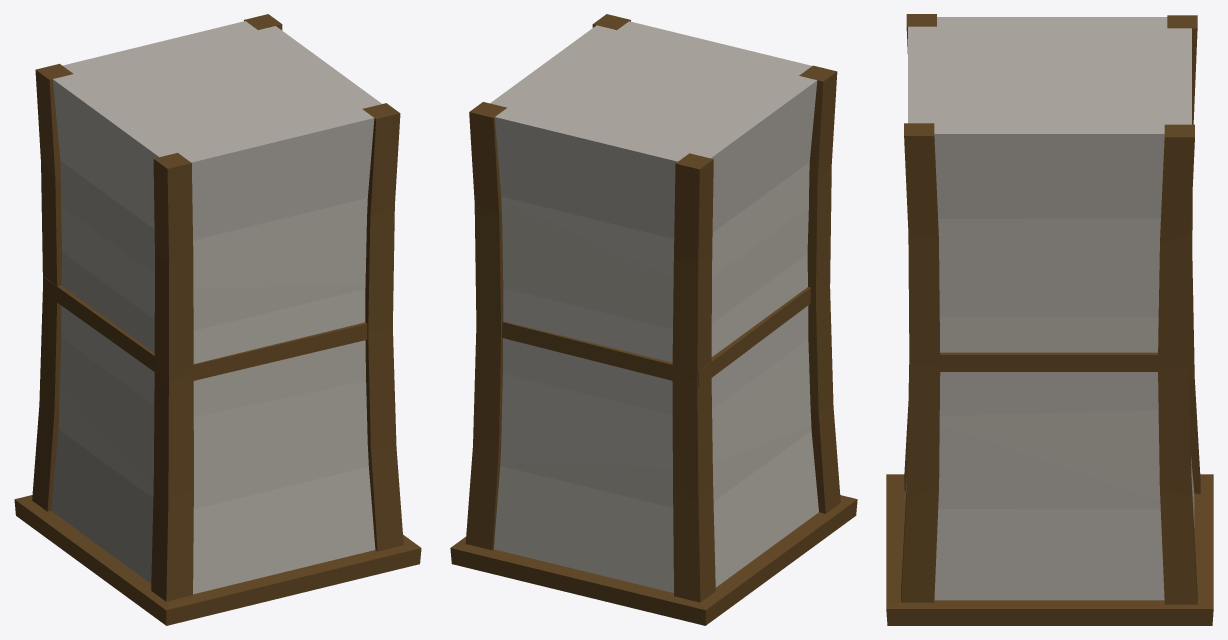
File: SmallHouse_02.fbx
3 renders of one model, left to right at view 1: azimuth 30°, elevation 25°; view 2: azimuth 150°, elevation 25°; view 3: azimuth 270°, elevation 25°, orthographic. The views are drawn at different scales.
Parts seen in each view (by area): view 1: SmallHouse_02; view 2: SmallHouse_02; view 3: SmallHouse_02.
Boxes of the visible parts, x1=… form: SmallHouse_02: x1=14, y1=14, x2=421, y2=625; SmallHouse_02: x1=450, y1=14, x2=857, y2=625; SmallHouse_02: x1=886, y1=14, x2=1213, y2=625.
Bounding box in the file's own units: 3.04 × 5.1 × 3.13.
